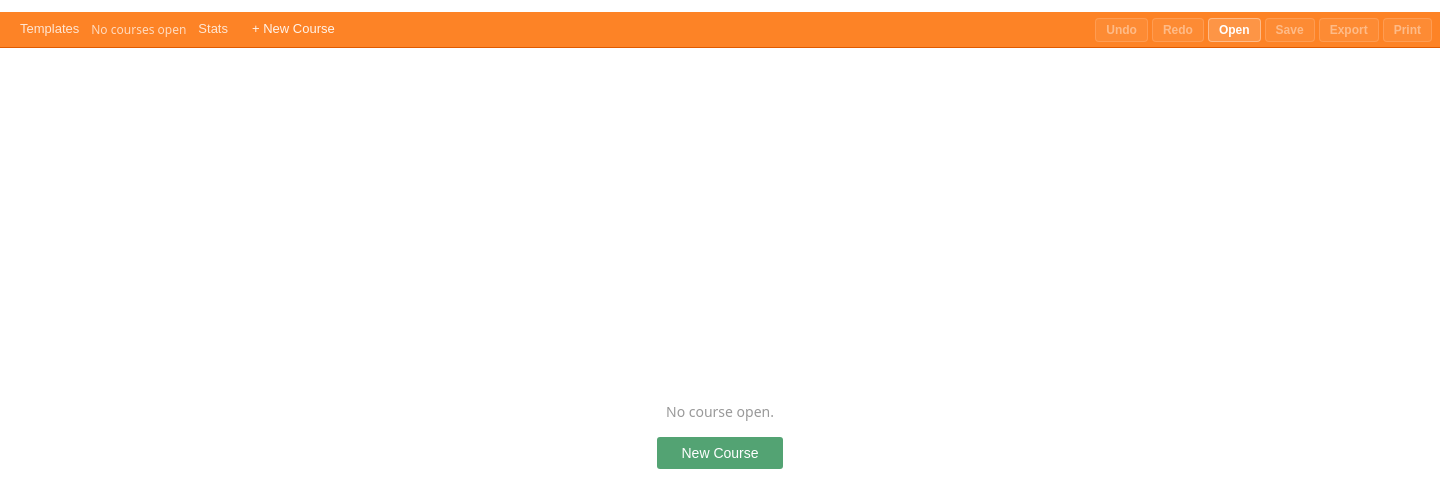
Test: Undo/Redo — per-day notes › Undo becomes enabled after editing the day note
Click the button "Open" at [1234, 30], box [1208,18,1261,42]
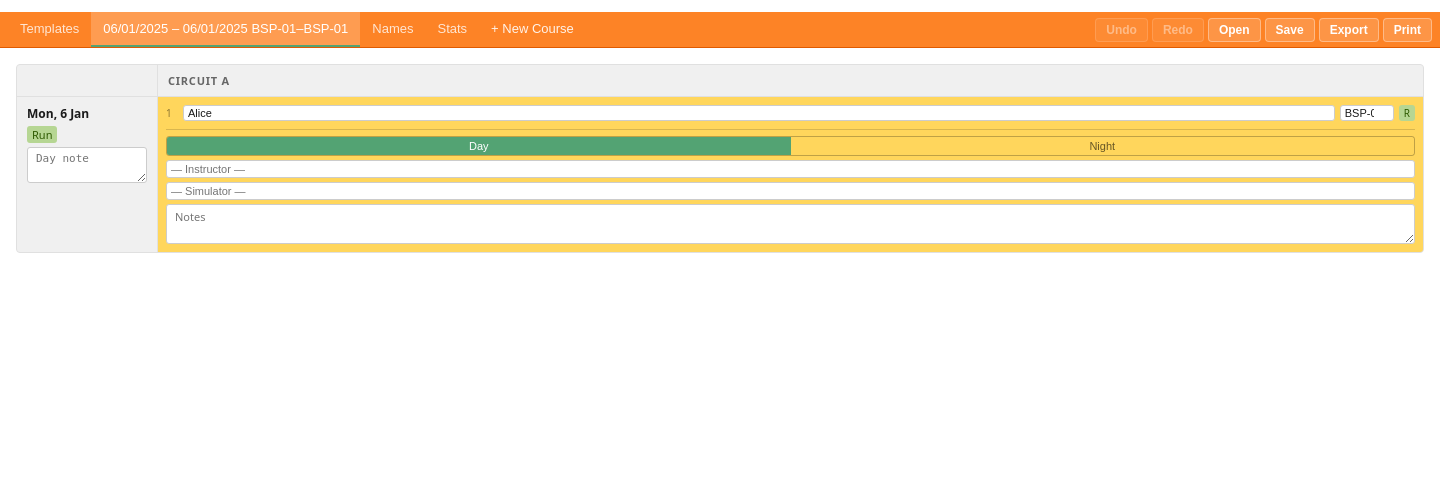
Expected: the text box with placeholder "Day note" is shown
Type "changed" into the text box with placeholder "Day note" at [87, 165], box [27,147,147,183]
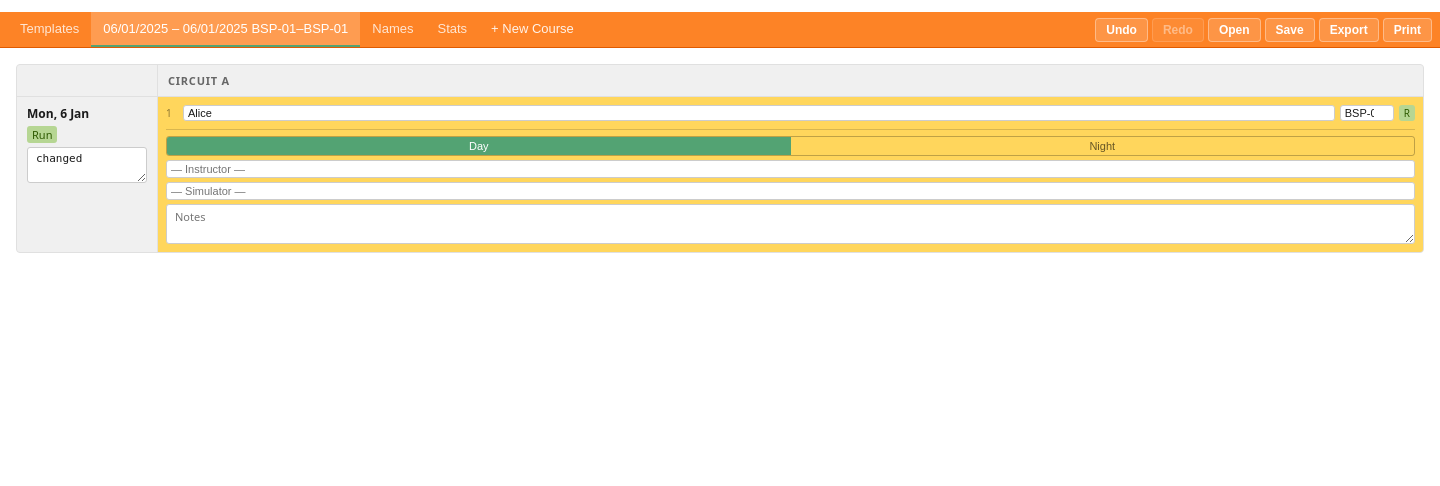
Expected: the button "Undo" is enabled, [1095,18,1148,42]
